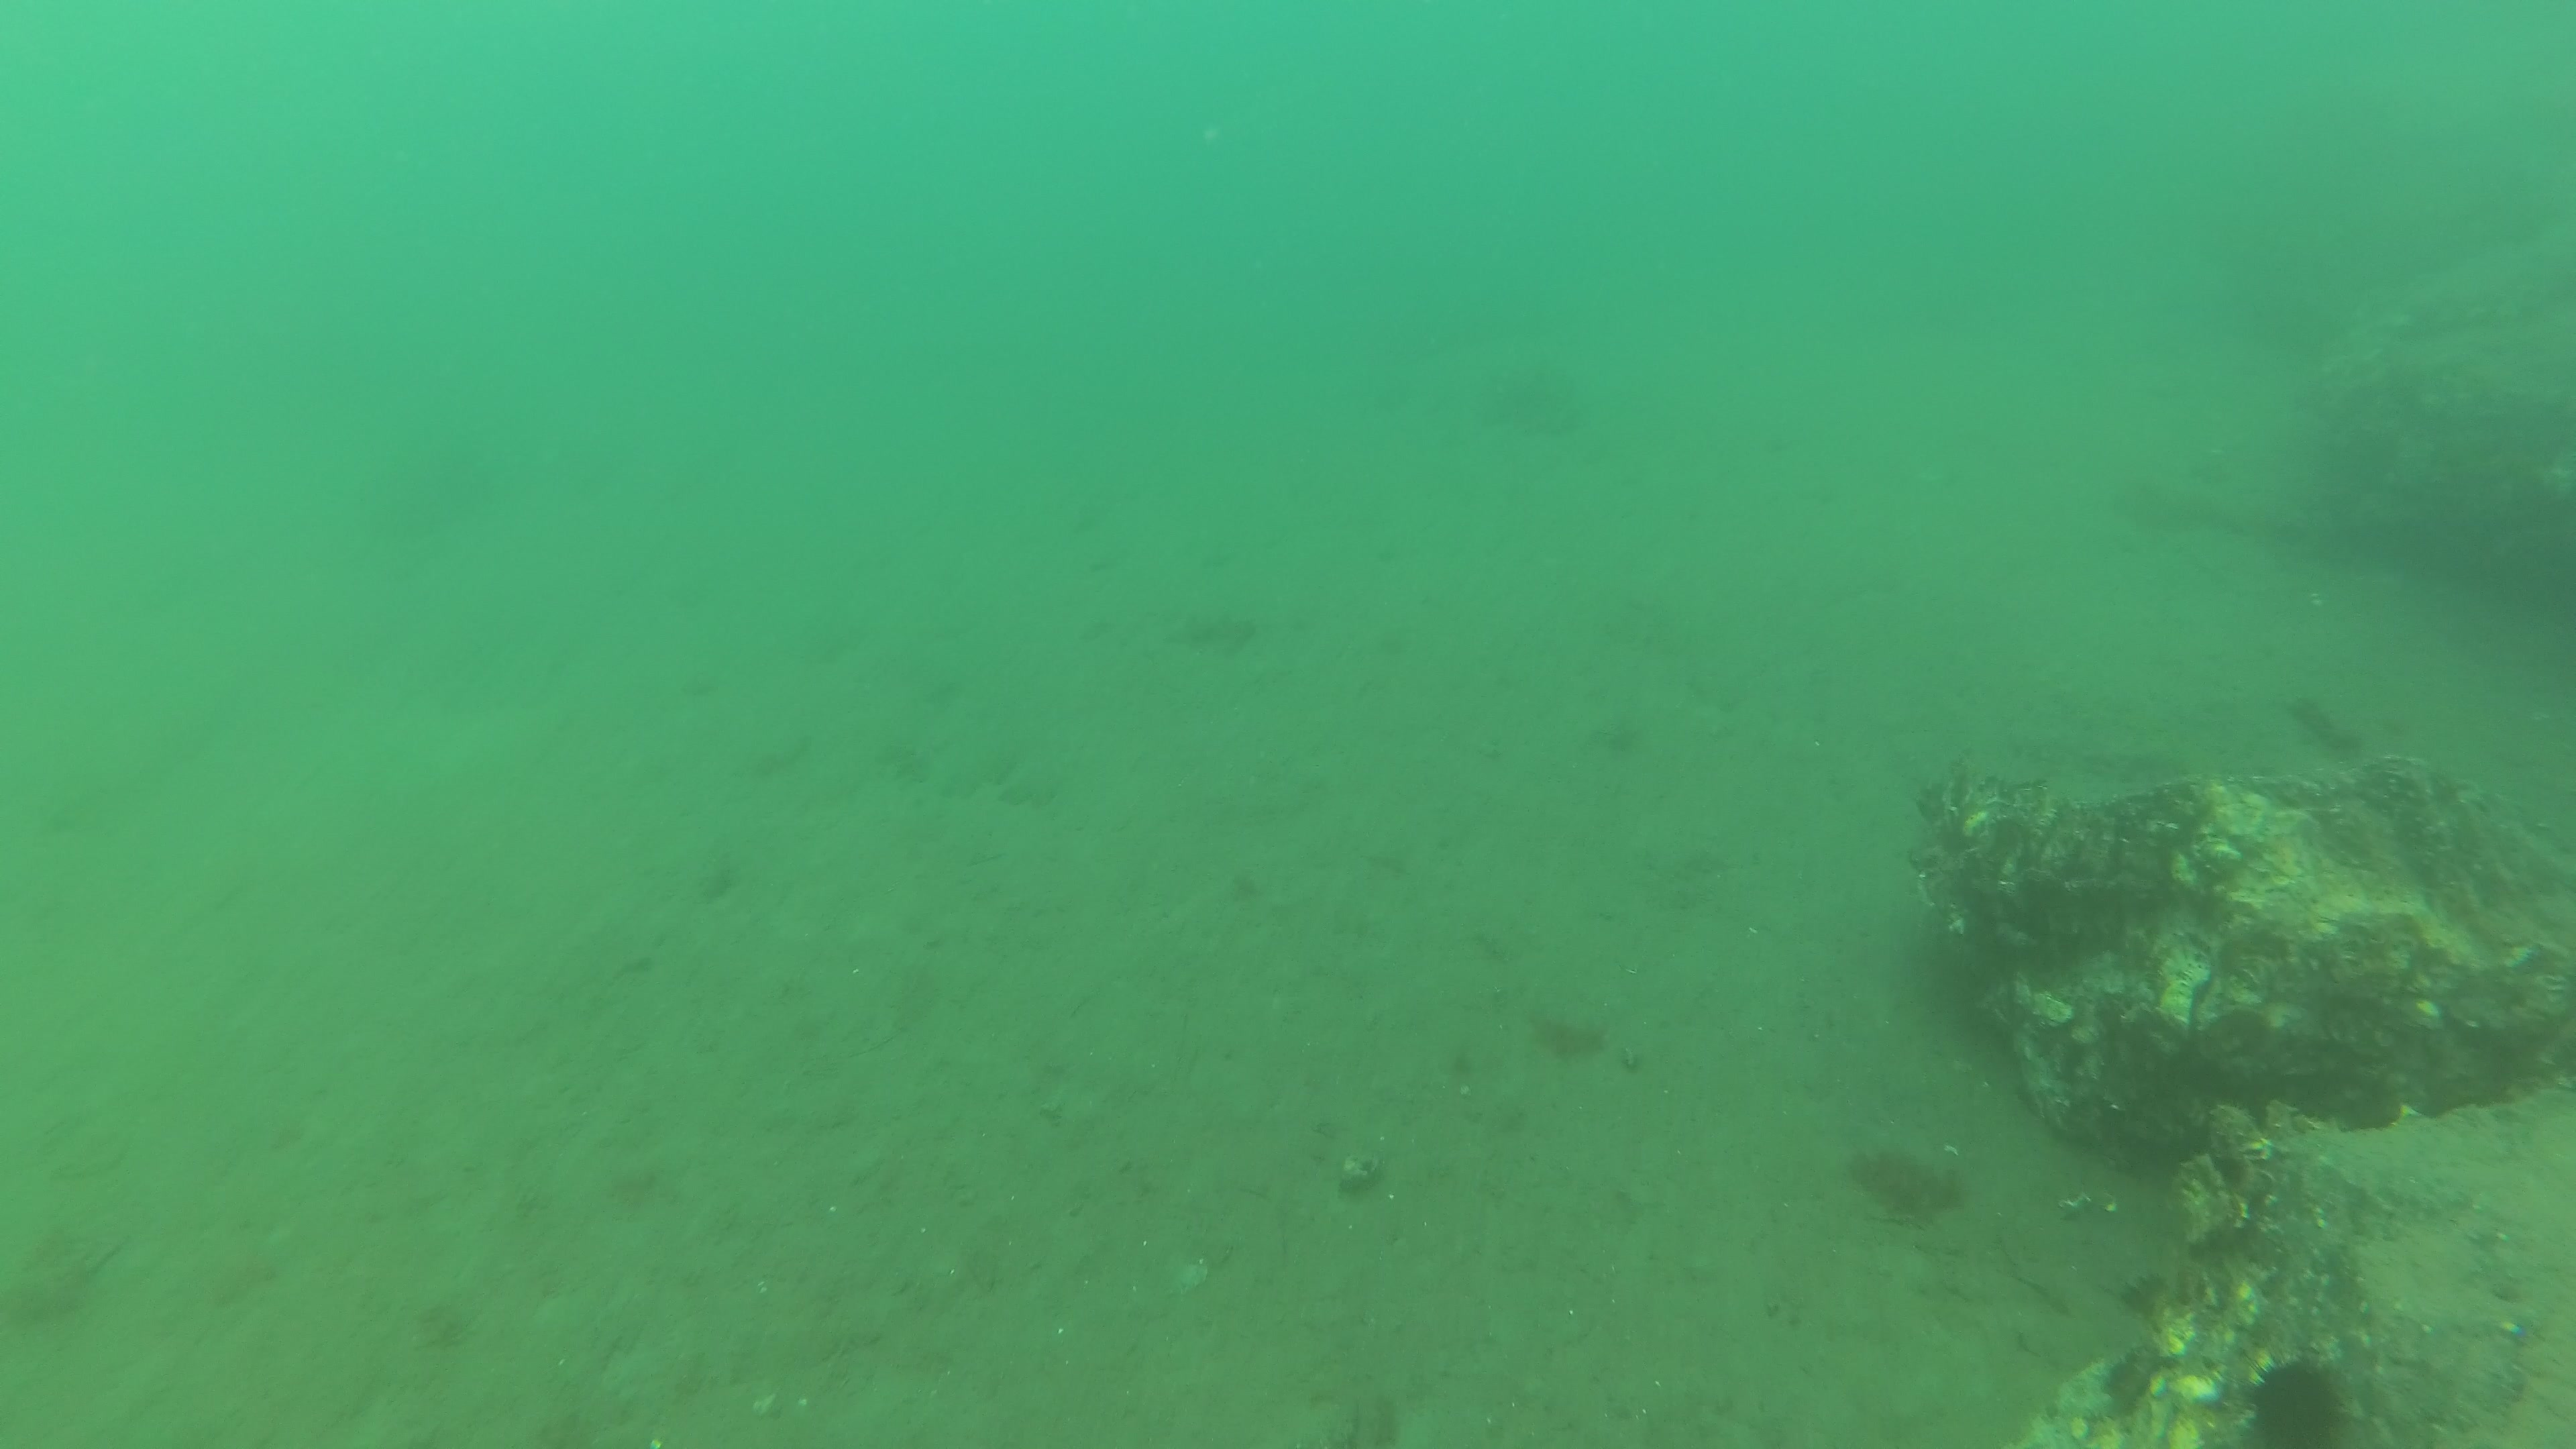echinus: (2245, 1355, 2342, 1449)
